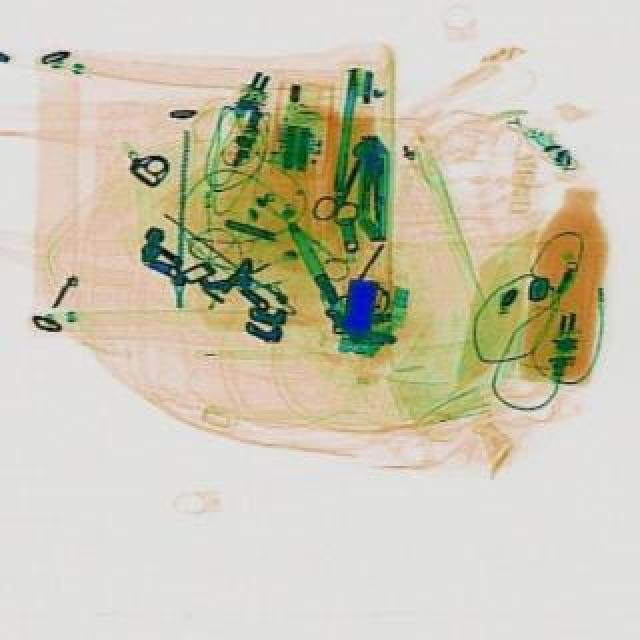pliers: (306, 156, 376, 234)
